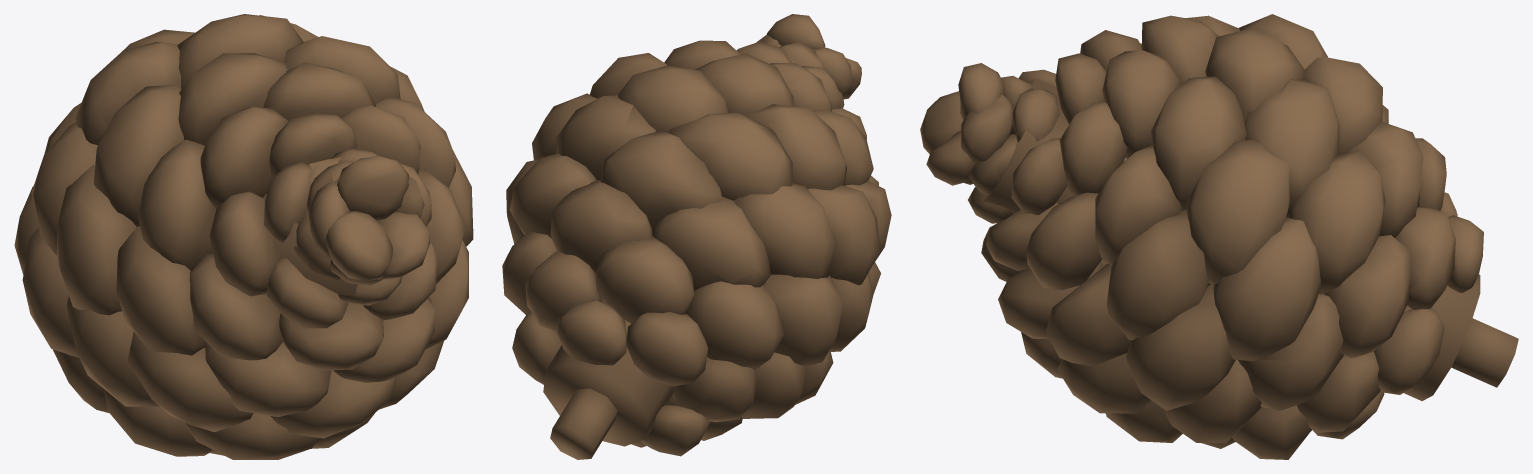
The model's file is pinecone_1.glb.
3 views of the same model, side by side, from view 1: azimuth 30°, elevation 25°; view 2: azimuth 150°, elevation 25°; view 3: azimuth 270°, elevation 25° (orthographic). The views are drawn at different scales.
Parts seen in each view (by area): view 1: pinecone_1; view 2: pinecone_1; view 3: pinecone_1.
Part boxes in pixels (x1,y1,x2,y2): pinecone_1: (14,14,473,459); pinecone_1: (502,14,891,459); pinecone_1: (920,14,1518,459).
Bounding box in the file's own units: 0.0645 × 0.0662 × 0.0875.
